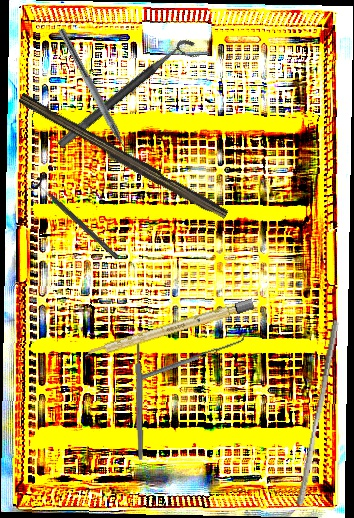Chopper: (48, 26, 138, 169)
Fixation Ring: (56, 34, 203, 160), (27, 175, 124, 265)
Pusher: (295, 318, 340, 508)
Scalpel Handle: (14, 92, 231, 224), (82, 298, 255, 361), (134, 342, 145, 461)
Spatula Surgical: (134, 332, 249, 382)
